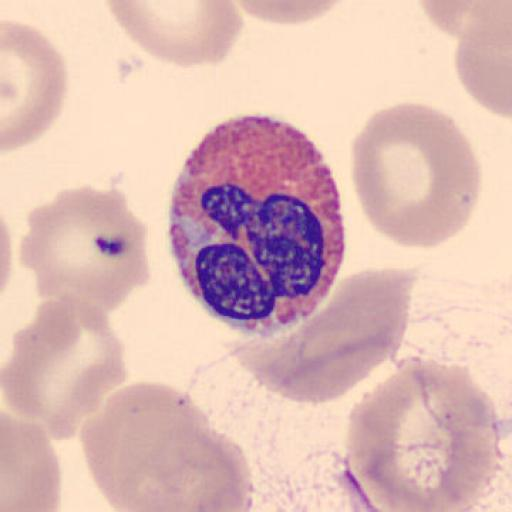RBC: (233, 265, 413, 405), (344, 357, 504, 510), (80, 381, 253, 512), (349, 99, 482, 248), (2, 293, 129, 443), (19, 182, 152, 314), (105, 0, 245, 69), (2, 17, 69, 155), (453, 8, 512, 118), (2, 410, 62, 512), (415, 0, 511, 39), (228, 0, 354, 25), (0, 210, 14, 299)
WBC: (164, 113, 347, 337), (168, 343, 410, 510)
